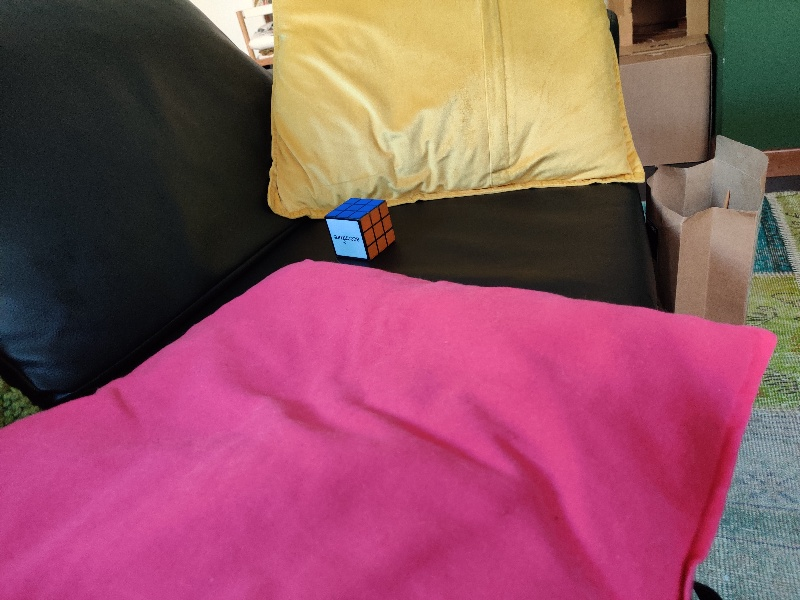rubik: (324, 197, 396, 261)
